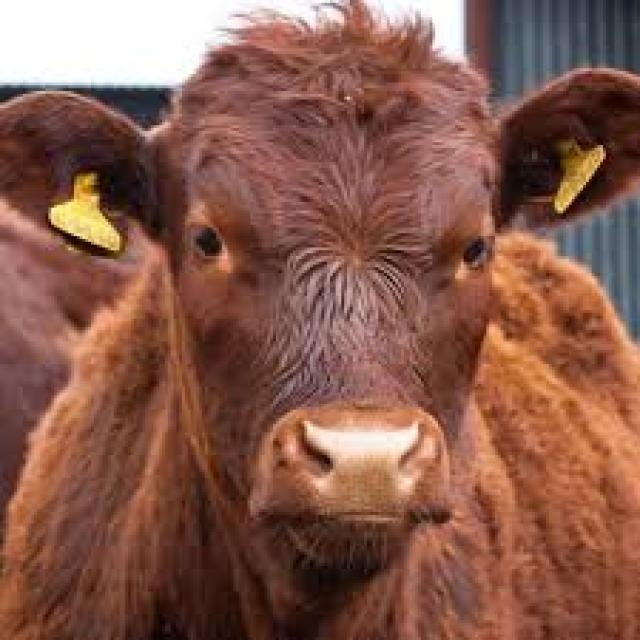cowFace: (23, 17, 631, 575)
